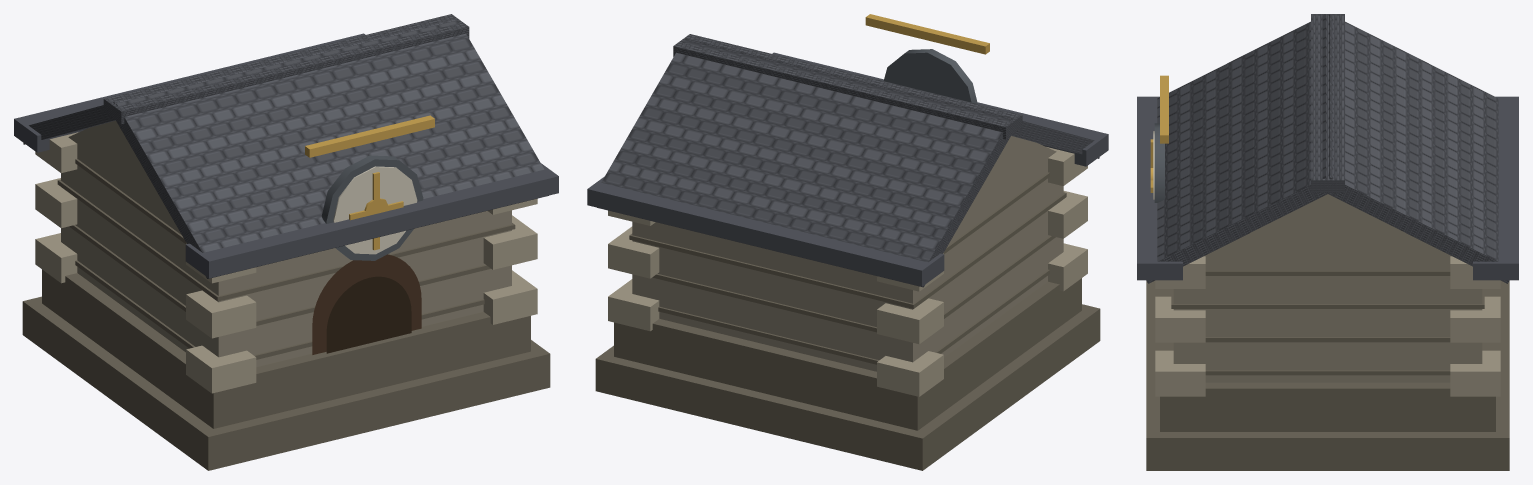
The model's file is shield-L1.glb.
The picture shows the model from 3 angles, left to right: view 1: azimuth 30°, elevation 25°; view 2: azimuth 150°, elevation 25°; view 3: azimuth 270°, elevation 25°; orthographic projection. The views are drawn at different scales.
Parts seen in each view (by area): view 1: building-shield-L1; view 2: building-shield-L1; view 3: building-shield-L1.
Part boxes in pixels (x1,y1,x2,y2): building-shield-L1: (14, 14, 558, 470); building-shield-L1: (587, 14, 1108, 470); building-shield-L1: (1137, 14, 1518, 470).
Size of the model in its own units: 1.63 by 1.33 by 1.57.
Materials: 10 (1 with a texture image).
